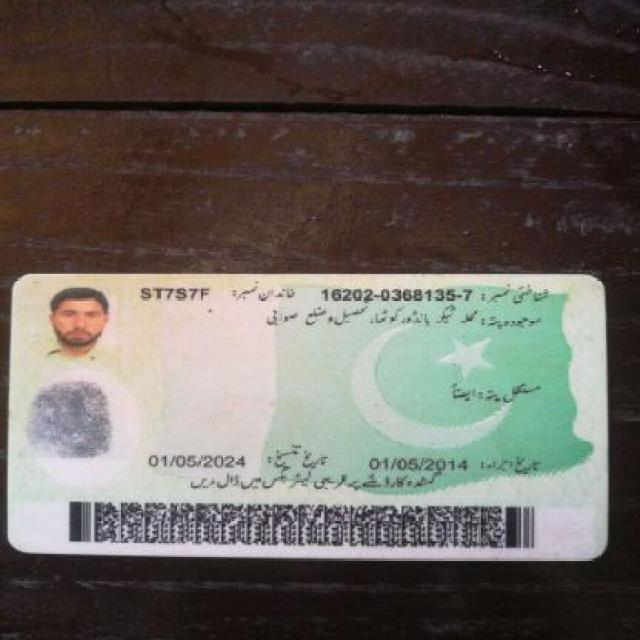Back: (4, 266, 616, 562)
